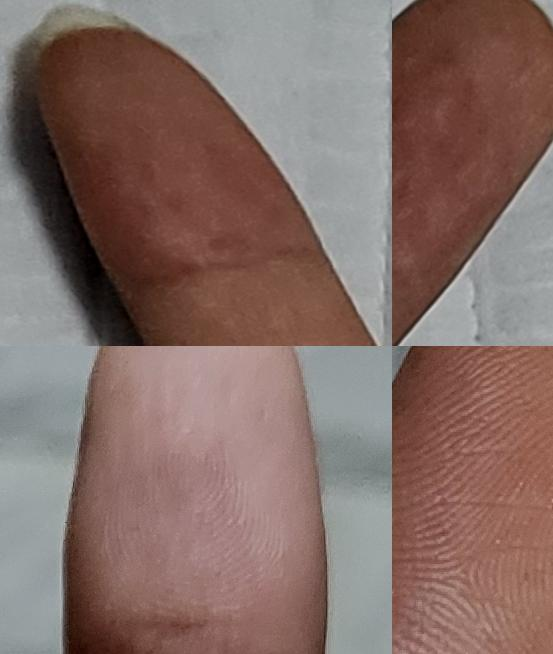Fingerprints: (36, 27, 325, 295), (64, 346, 327, 627), (392, 0, 553, 343), (392, 346, 553, 654)
